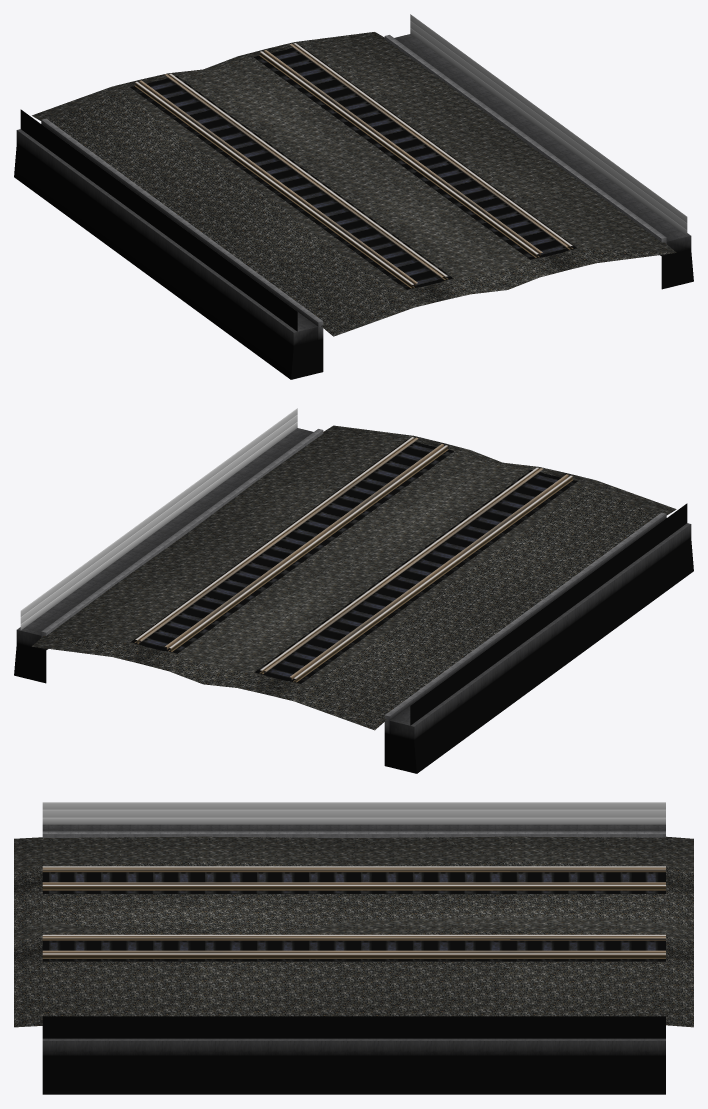
File: TOB_2RAIL_RANKAN0_50.glb
3 renders of one model, top to bottom at view 1: azimuth 30°, elevation 25°; view 2: azimuth 150°, elevation 25°; view 3: azimuth 270°, elevation 25°, orthographic. The views are drawn at different scales.
Parts seen in each view (by area): view 1: LeftWall1, R000_RG_R1, R000_RG_L1; view 2: LeftWall1, R000_RG_R1, R000_RG_L1; view 3: LeftWall1, R000_RG_L1, R000_RG_R1.
Boxes of the visible parts, bbox=[...] form: LeftWall1: bbox=[14, 14, 693, 379]; R000_RG_R1: bbox=[139, 50, 542, 285]; R000_RG_L1: bbox=[164, 43, 568, 277]; LeftWall1: bbox=[14, 408, 693, 773]; R000_RG_R1: bbox=[164, 444, 568, 679]; R000_RG_L1: bbox=[139, 437, 543, 673]; LeftWall1: bbox=[14, 802, 693, 1094]; R000_RG_L1: bbox=[42, 882, 665, 953]; R000_RG_R1: bbox=[42, 868, 665, 939].
Bounding box in the file's own units: 42 × 6.62 × 54.53.
8 materials, 7 textured.
